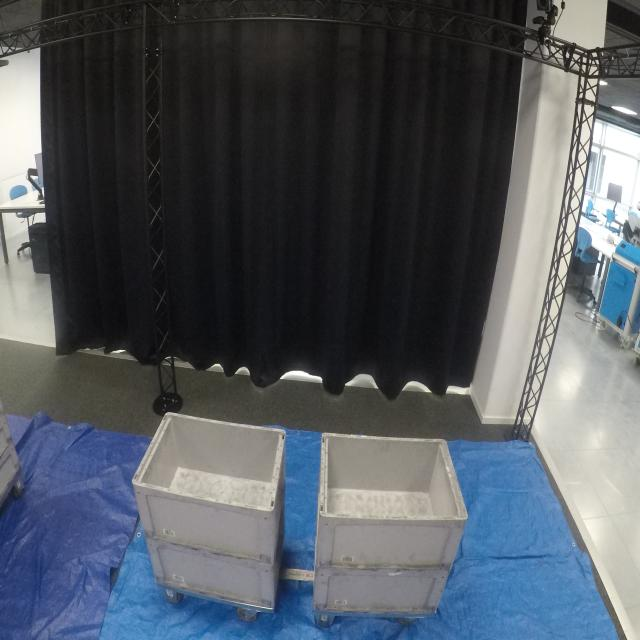Box4G: (128, 408, 288, 570), (312, 432, 465, 572), (142, 522, 292, 614), (311, 553, 459, 611)
